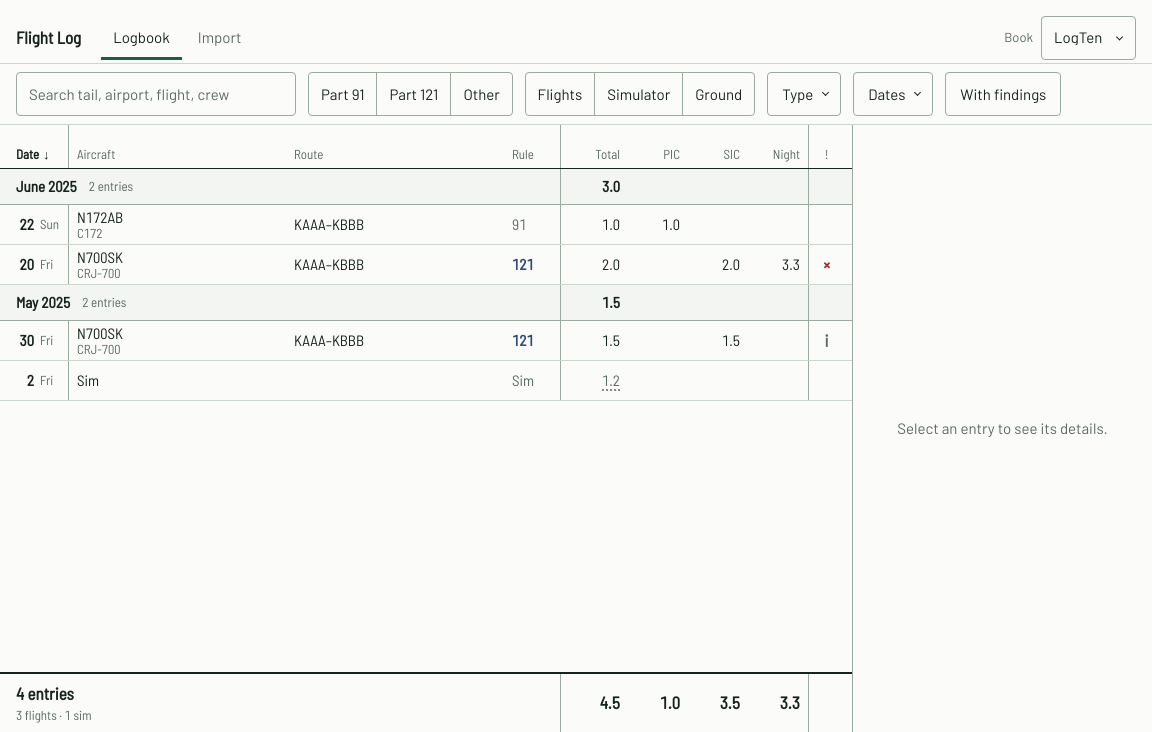
it: Logbook screen › narrows the rows and the totals when a filter is set, and the URL keeps the filter
The width and height of the screenshot is (1152, 732).
Click the button "Part 121" at x=414, y=94, box left=376, top=72, right=451, bottom=116
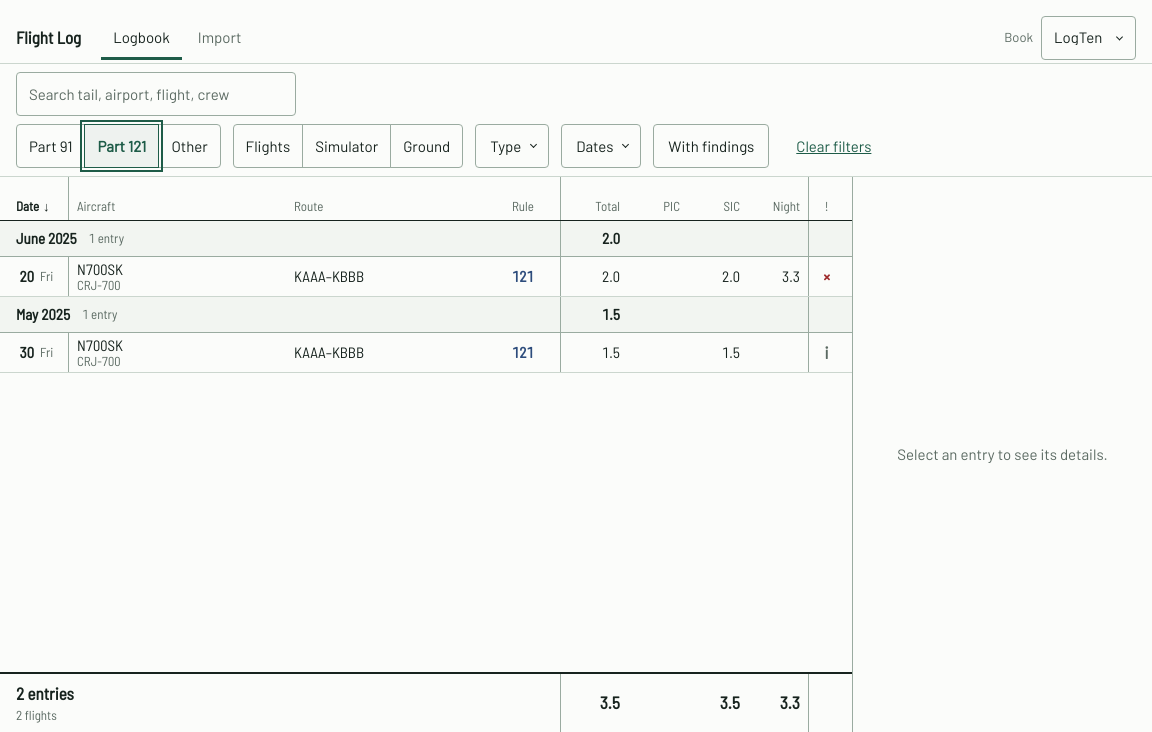
Expected: the text "2 entries" is shown, left=16, top=682, right=74, bottom=705
Expected: the 1st text "3.5" is shown, left=560, top=674, right=628, bottom=731
Expected: the button "Clear filters" is shown
Click the button "Clear filters" at x=834, y=146, box left=781, top=124, right=886, bottom=168
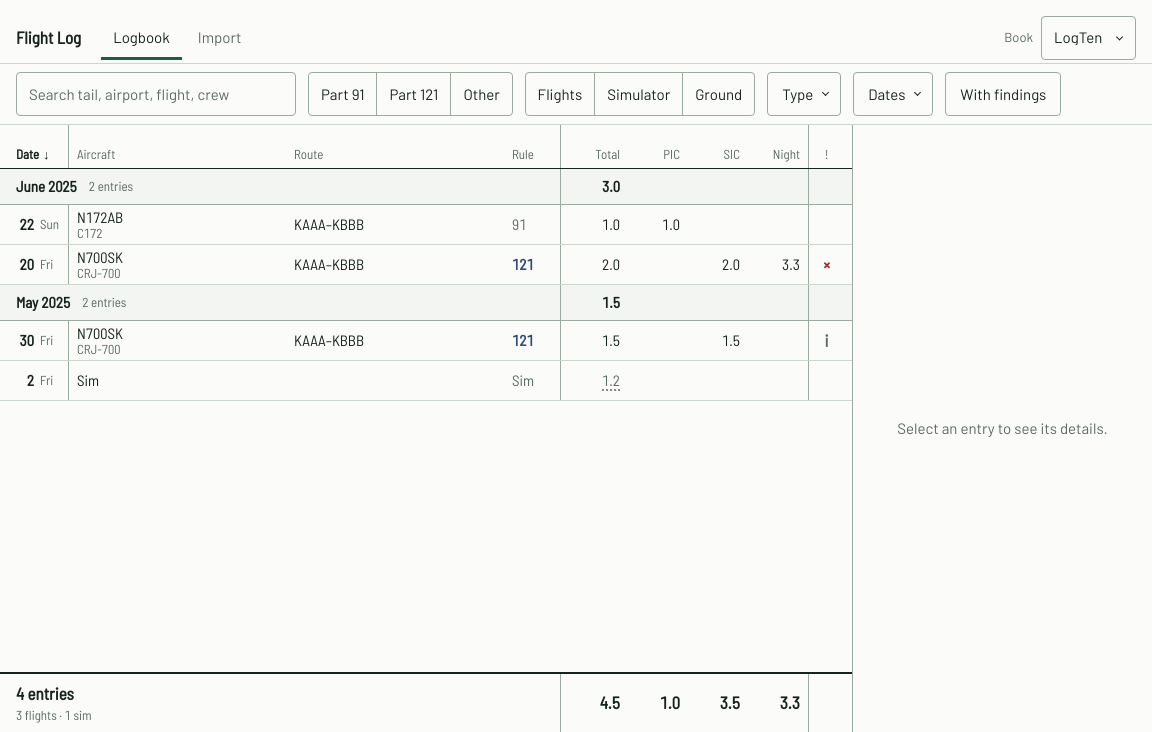
Expected: the button "Clear filters" is gone
